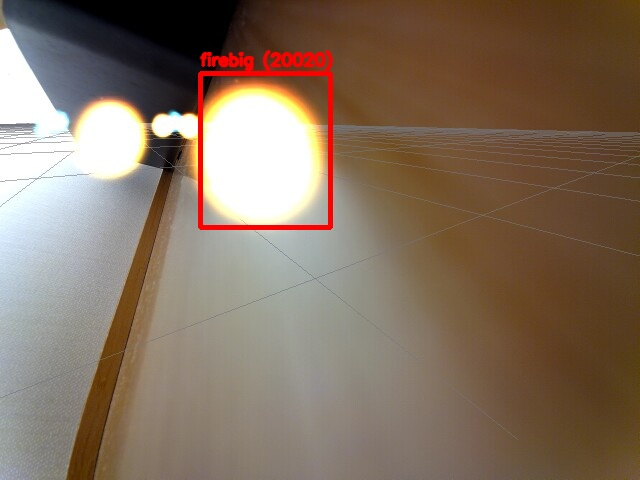firebig: (200, 73, 330, 227)
